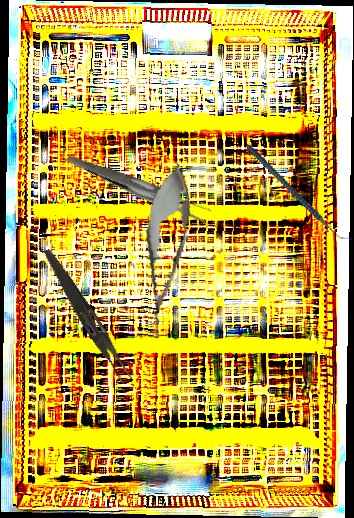Chopper: (246, 122, 352, 264)
Dressing Forceps: (65, 116, 215, 256), (36, 247, 138, 385)
Micro Scissor: (133, 160, 198, 343)
